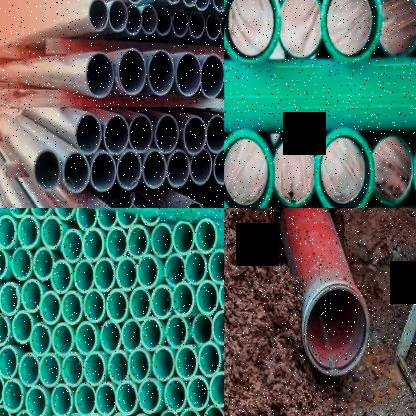pipe: (303, 285, 369, 376), (315, 129, 375, 208), (321, 0, 382, 65), (224, 133, 274, 208), (224, 0, 281, 64), (274, 136, 316, 207), (373, 136, 414, 205), (278, 0, 321, 59), (378, 0, 416, 58), (85, 52, 115, 99), (118, 48, 147, 95), (33, 149, 62, 192), (175, 53, 202, 97), (62, 151, 90, 193), (148, 51, 174, 95), (76, 113, 102, 156), (116, 150, 142, 191), (200, 54, 224, 98), (90, 152, 116, 192), (104, 114, 128, 156), (142, 149, 166, 190), (129, 114, 153, 154), (183, 116, 207, 156), (194, 218, 218, 254), (156, 115, 178, 154), (167, 149, 189, 188), (138, 378, 161, 415), (186, 375, 209, 411), (115, 380, 138, 416), (190, 148, 212, 185), (184, 250, 207, 285), (165, 314, 188, 349), (140, 316, 163, 351), (198, 342, 221, 377), (152, 346, 175, 381), (164, 377, 186, 413), (126, 225, 149, 259), (115, 257, 138, 291), (173, 221, 195, 256), (150, 223, 172, 258), (50, 259, 72, 294), (196, 280, 218, 315), (172, 281, 194, 316), (106, 288, 128, 323), (40, 290, 62, 325), (76, 321, 98, 356), (30, 322, 52, 357), (176, 345, 198, 380), (128, 348, 150, 383), (18, 352, 40, 387), (74, 381, 96, 416), (18, 214, 39, 250), (94, 257, 115, 293), (62, 352, 83, 388), (106, 227, 128, 261), (82, 228, 104, 262), (137, 254, 159, 288), (21, 279, 43, 313), (38, 354, 60, 388), (41, 215, 62, 250), (121, 318, 142, 353), (52, 322, 73, 357), (107, 350, 128, 385), (2, 379, 23, 414), (95, 381, 116, 416), (100, 320, 122, 353), (33, 247, 54, 281), (130, 287, 151, 321), (84, 289, 105, 323), (61, 291, 82, 325), (84, 352, 105, 386), (50, 382, 71, 416), (206, 115, 224, 154), (74, 259, 94, 294), (152, 284, 172, 319), (192, 313, 213, 346), (25, 385, 47, 416), (62, 229, 82, 263), (12, 247, 32, 281), (164, 253, 184, 287), (0, 282, 20, 316), (12, 310, 32, 344), (0, 344, 18, 379), (88, 0, 108, 31), (108, 0, 128, 31), (208, 248, 224, 285), (0, 215, 17, 249), (141, 3, 158, 35), (209, 371, 224, 407), (76, 208, 97, 231), (126, 5, 142, 35), (172, 8, 188, 38), (156, 8, 172, 36), (189, 11, 205, 39), (212, 310, 224, 345), (213, 148, 224, 185), (206, 13, 221, 40), (0, 313, 9, 347), (54, 208, 76, 220), (203, 404, 224, 416), (0, 246, 7, 281), (30, 208, 52, 219), (8, 208, 30, 218), (179, 407, 202, 416), (219, 277, 224, 313), (195, 0, 211, 11), (212, 0, 224, 13), (13, 409, 35, 416), (0, 372, 4, 407), (0, 405, 12, 416), (158, 410, 180, 416), (182, 0, 199, 7), (220, 14, 224, 42), (165, 0, 182, 5), (124, 0, 145, 4), (16, 249, 18, 250)
